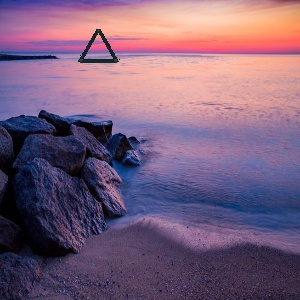triangle: (76, 23, 122, 66)
